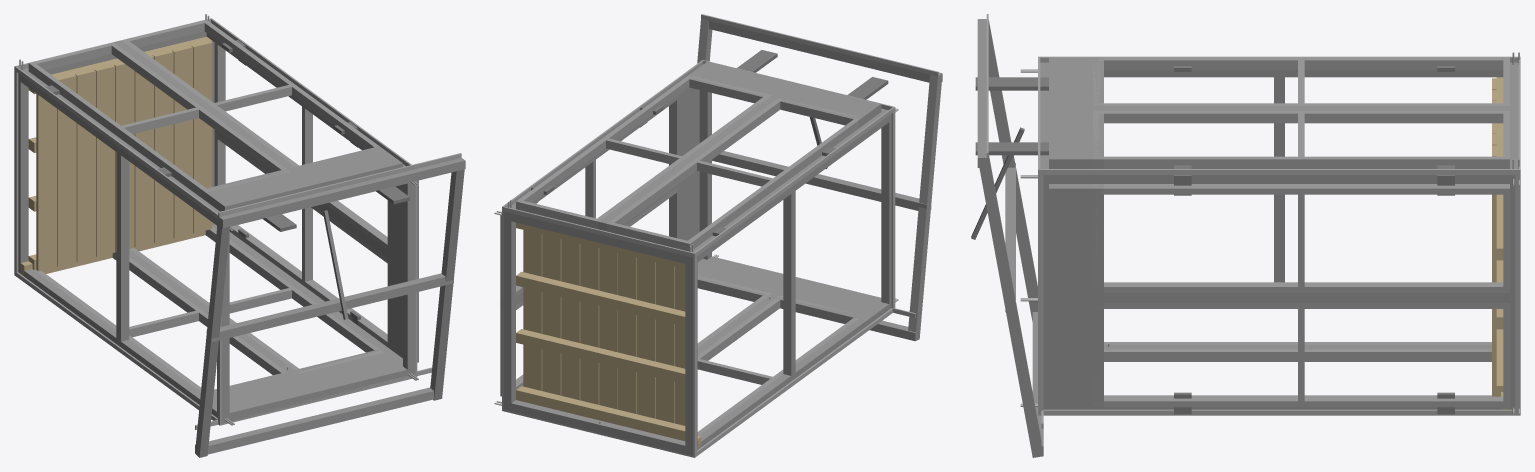
Rendered from gewaechshaus.glb.
3 views of the same model, side by side, from view 1: azimuth 30°, elevation 25°; view 2: azimuth 150°, elevation 25°; view 3: azimuth 270°, elevation 25° (orthographic). The views are drawn at different scales.
Visible parts, largest first — view 1: steel_frame, wood, door_frame, roof_frame, clamping, hardware; view 2: steel_frame, wood, door_frame, clamping, roof_frame, hardware; view 3: door_frame, steel_frame, clamping, roof_frame, hardware, wood.
Boxes of the visible parts, bbox=[...] form: steel_frame: bbox=[18, 31, 418, 423]; wood: bbox=[20, 36, 214, 275]; door_frame: bbox=[28, 19, 392, 393]; roof_frame: bbox=[195, 158, 465, 457]; clamping: bbox=[14, 18, 461, 429]; hardware: bbox=[45, 40, 409, 324]; steel_frame: bbox=[500, 61, 891, 455]; wood: bbox=[516, 222, 701, 449]; door_frame: bbox=[500, 75, 861, 435]; clamping: bbox=[502, 14, 938, 457]; roof_frame: bbox=[697, 19, 942, 341]; hardware: bbox=[531, 50, 888, 236]; door_frame: bbox=[1093, 57, 1509, 407]; steel_frame: bbox=[1040, 57, 1518, 409]; clamping: bbox=[986, 14, 1520, 428]; roof_frame: bbox=[977, 19, 1043, 457]; hardware: bbox=[971, 66, 1454, 414]; wood: bbox=[1492, 77, 1509, 409].
Bounding box in the file's own units: 1500 × 1533 × 2505.
